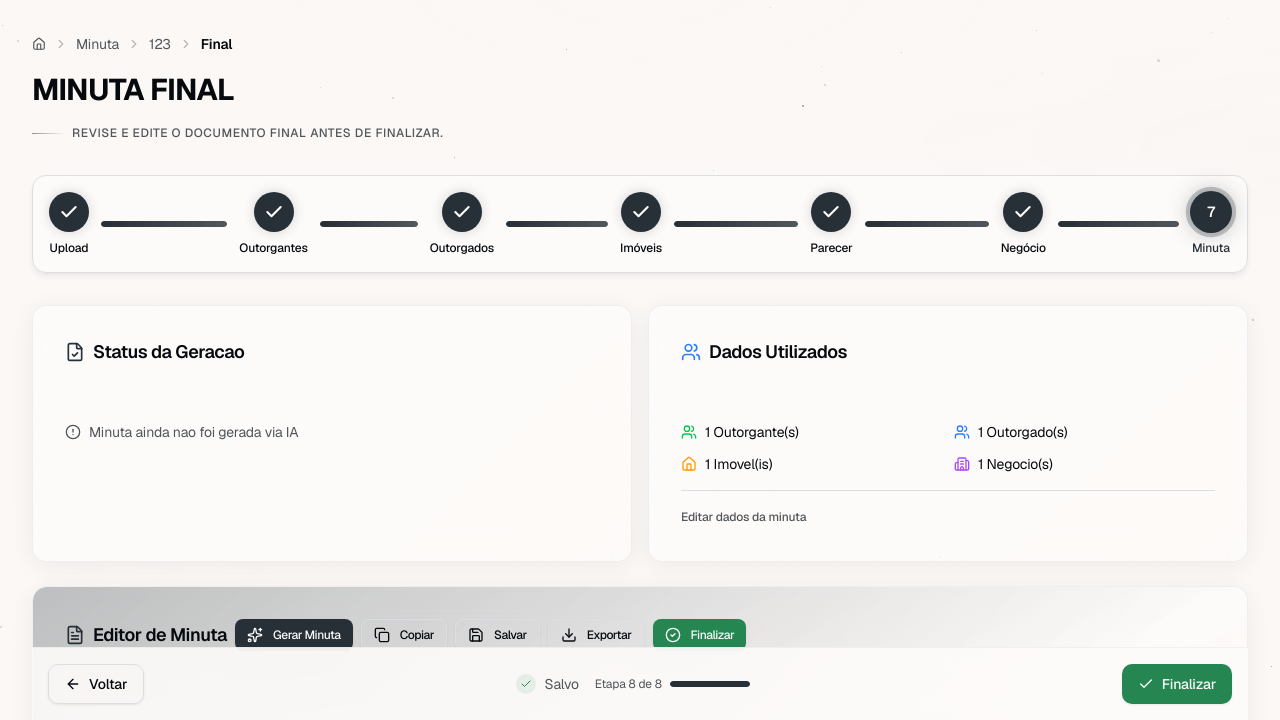
it: MinutaFinal - Template Selection Integration › closes modal when cancel button is clicked
Click the button "Gerar Minuta": (294,635) [235, 619, 353, 651]
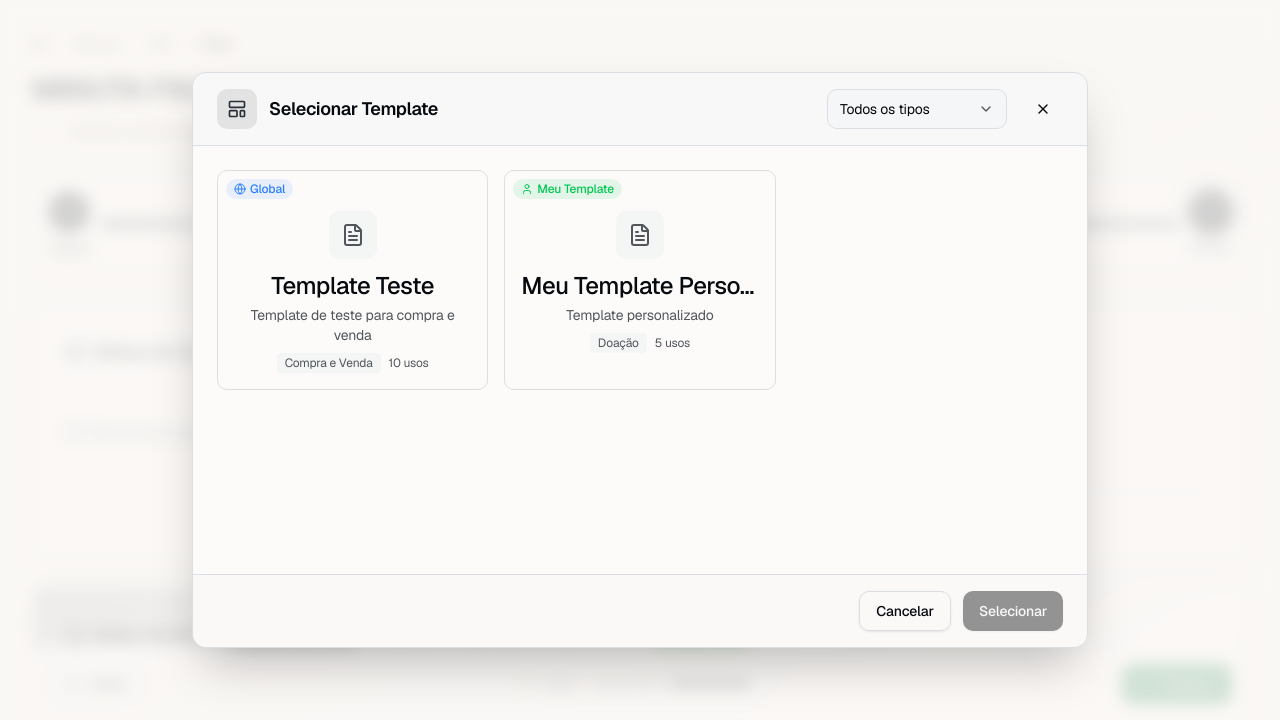
Expected: the dialog is shown, [192, 72, 1088, 648]
Click the button "Cancelar": (905,611) [859, 591, 951, 631]
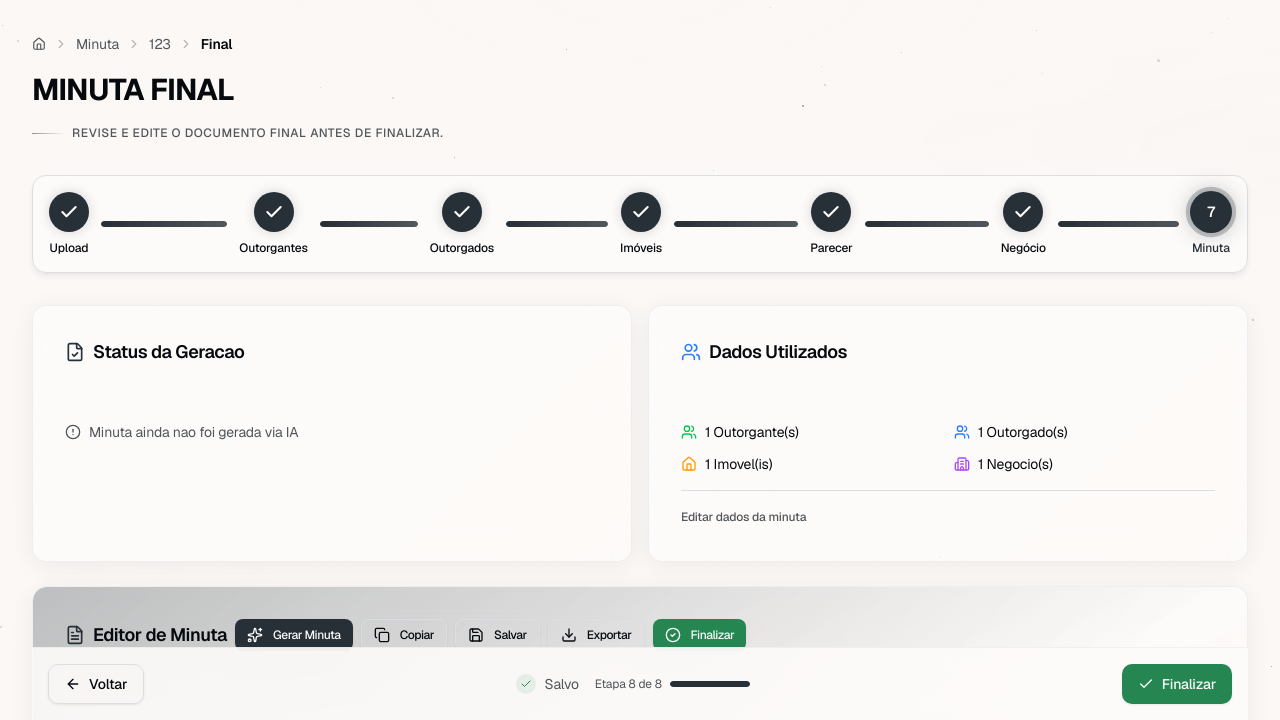
Expected: the dialog is gone
